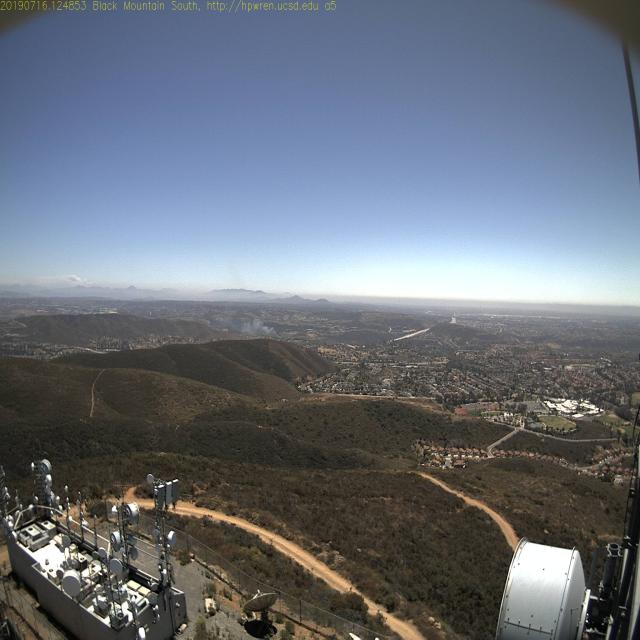smoke: (250, 311, 291, 347)
